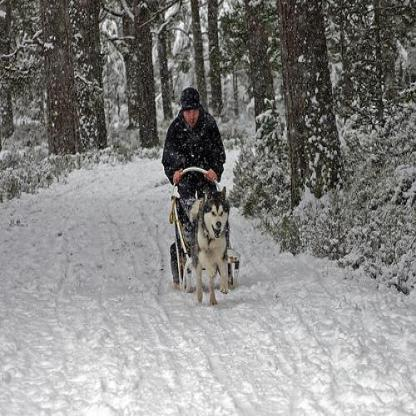malamute: (187, 185, 229, 307)
